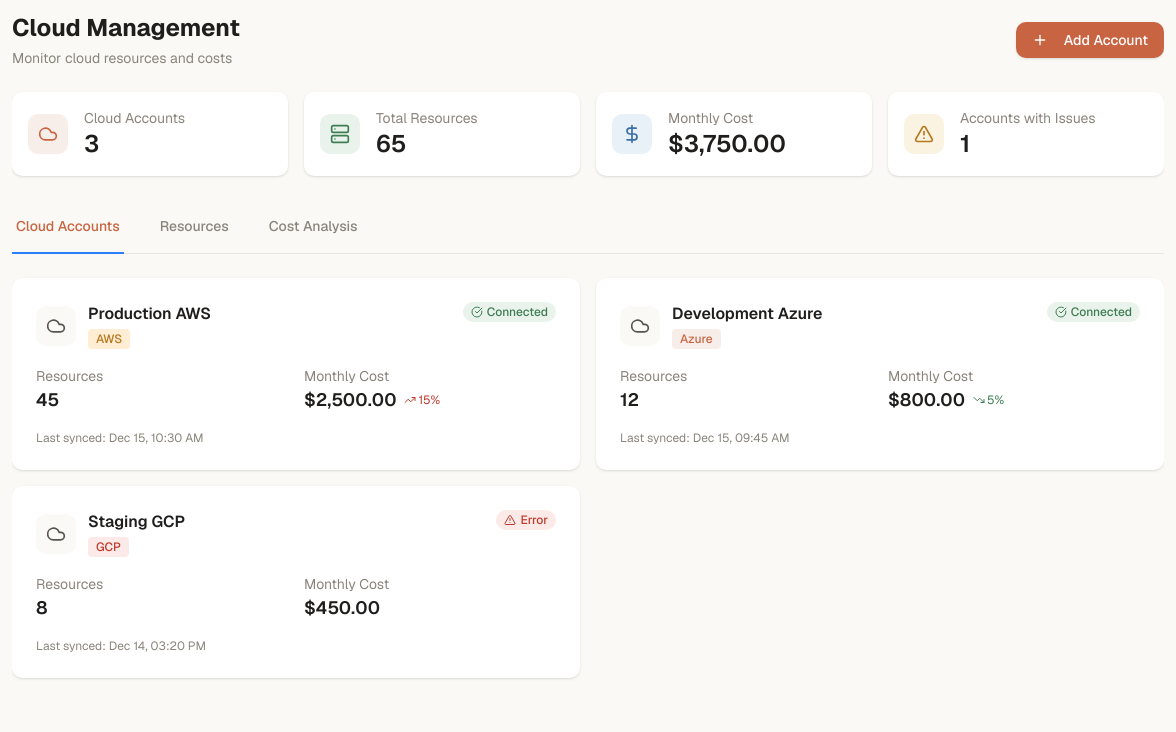
Scenario: CloudPage › Resources Tab › displays resource summary cards
This screenshot has width=1176, height=732.
Click the button "Resources".
click(194, 227)  # box [156,200,233,254]
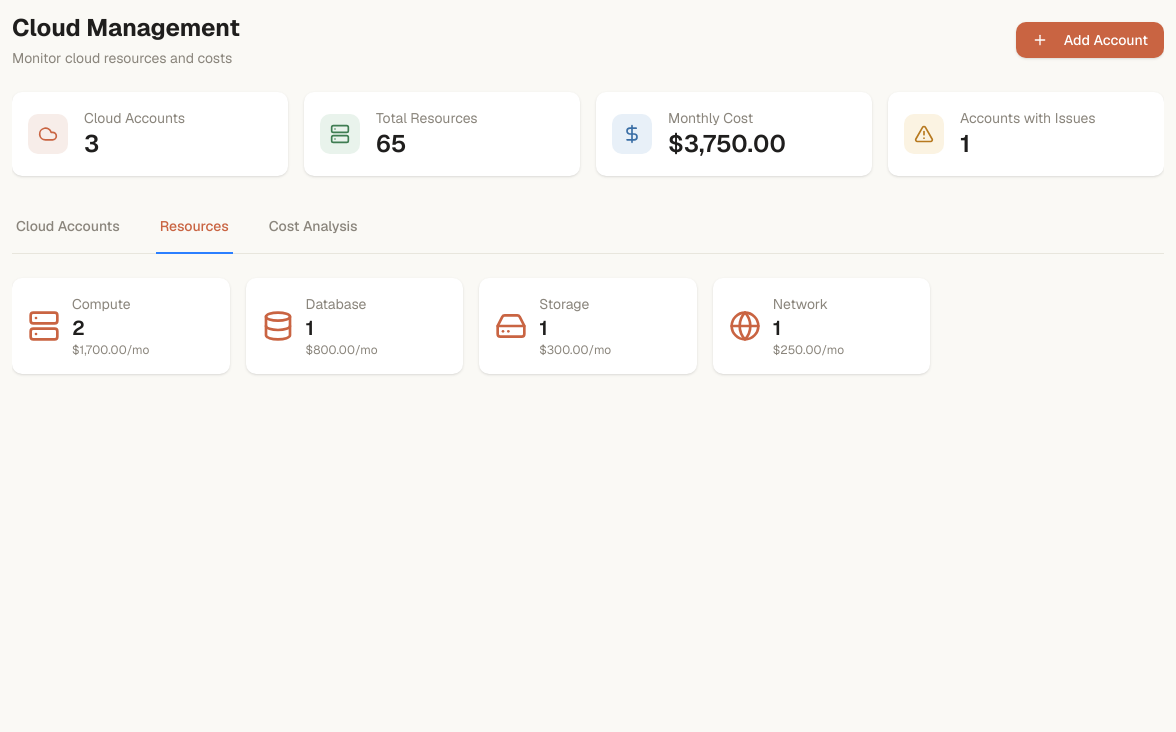
Result: the text "compute" is shown at [72,295,131,313]
Result: the text "database" is shown at [306,295,366,313]
Result: the text "storage" is shown at [539,295,589,313]
